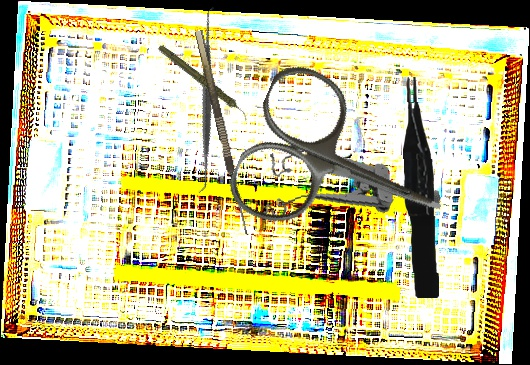Handpiece: (155, 29, 251, 137)
Hook Surgical: (194, 27, 261, 237)
Iris Scissors: (221, 56, 471, 282)
Spatula Surgical: (113, 6, 300, 195)
Speculum: (254, 128, 441, 232)
Tissue Forceps: (402, 76, 439, 299)
